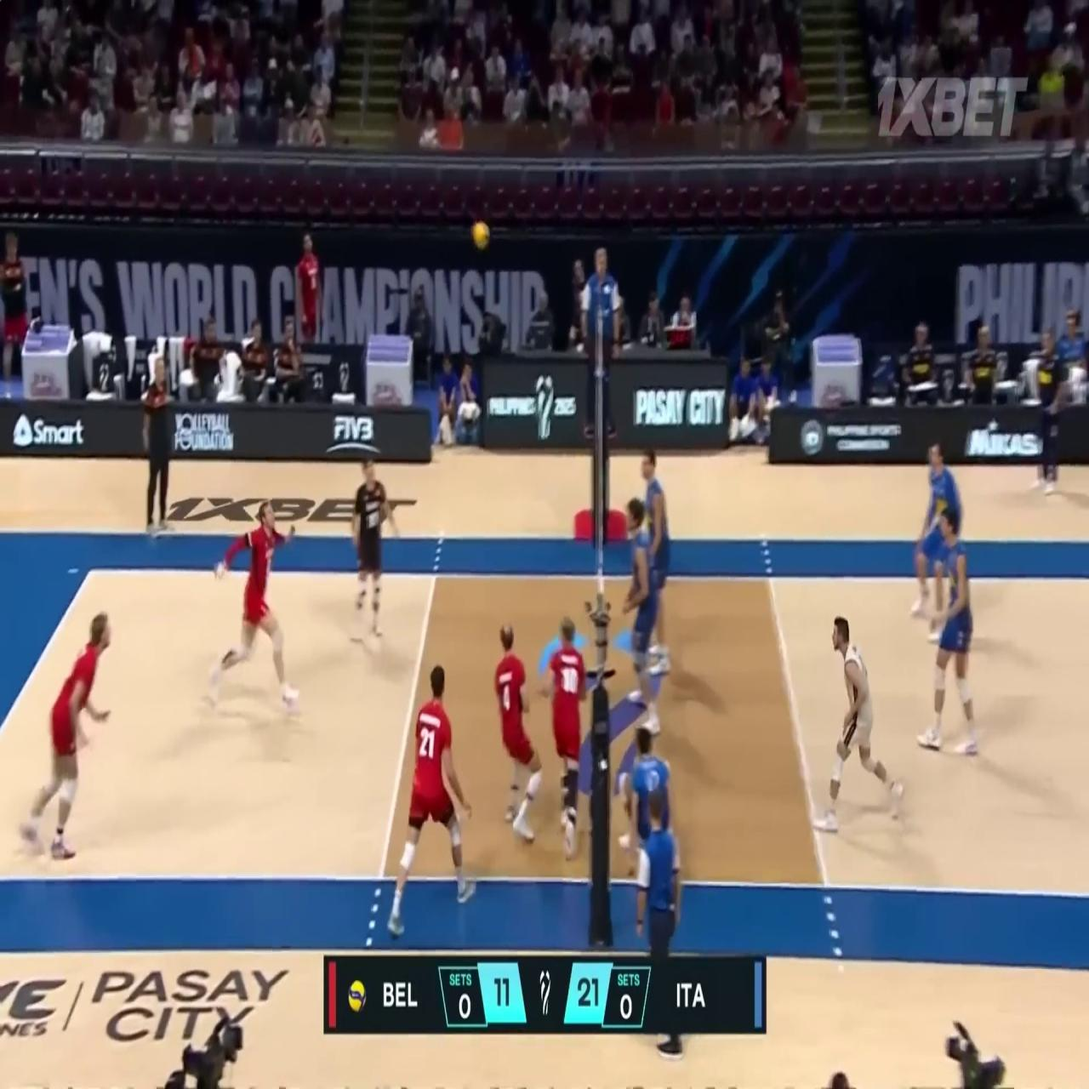ball: (472, 221, 491, 249)
